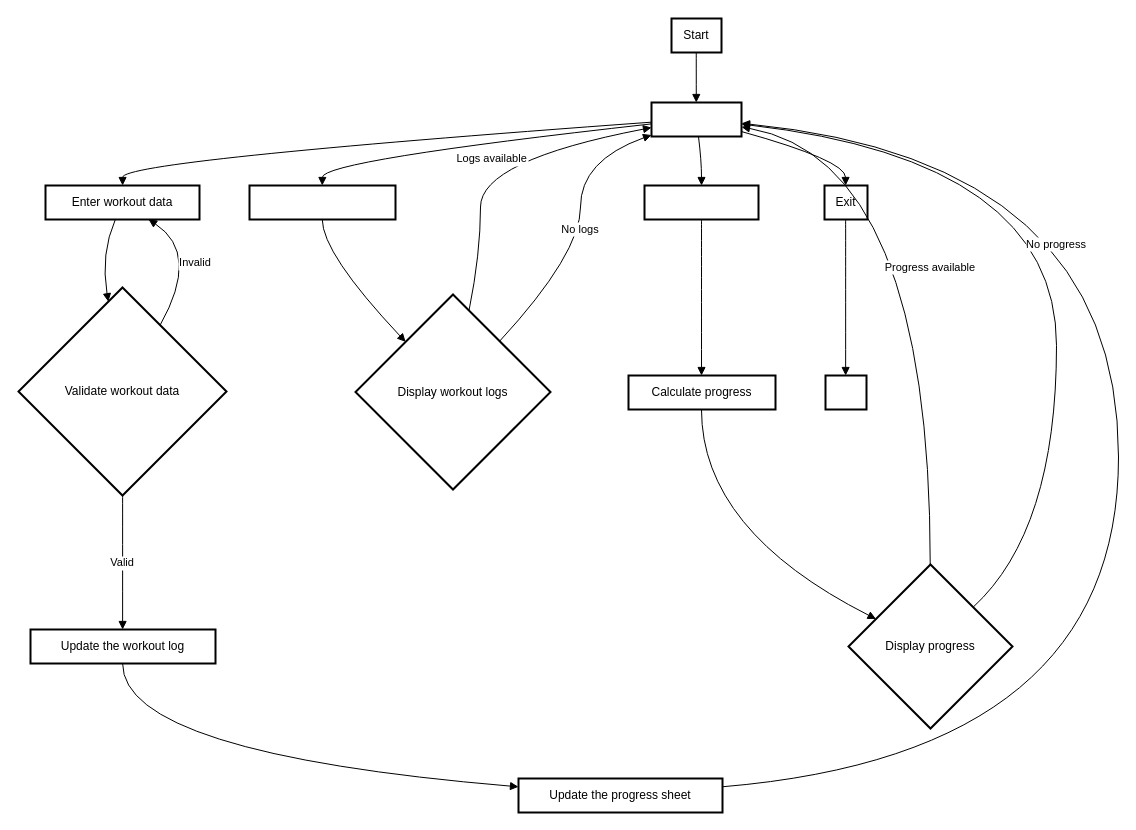
This 1136x830 diagram has some shape labels left out. The shapes that lost their labels are listed below. From the top down, each one's centre as x and y in pixels, then its label:
(x=696, y=119): Main Menu
(x=322, y=202): View workout logs
(x=701, y=202): View progress
(x=845, y=392): End
